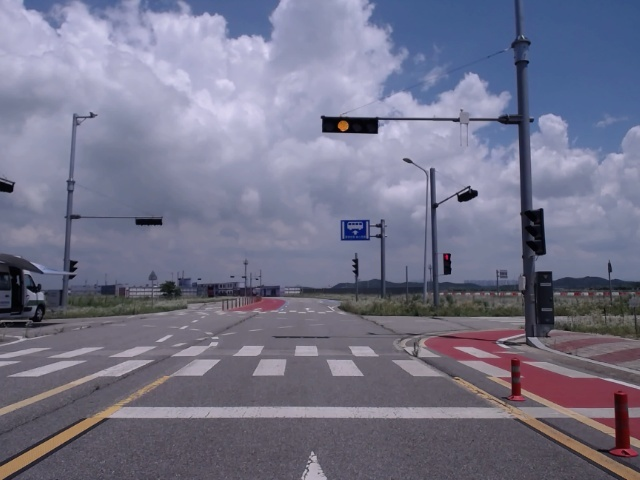orange_4: (321, 116, 379, 134)
